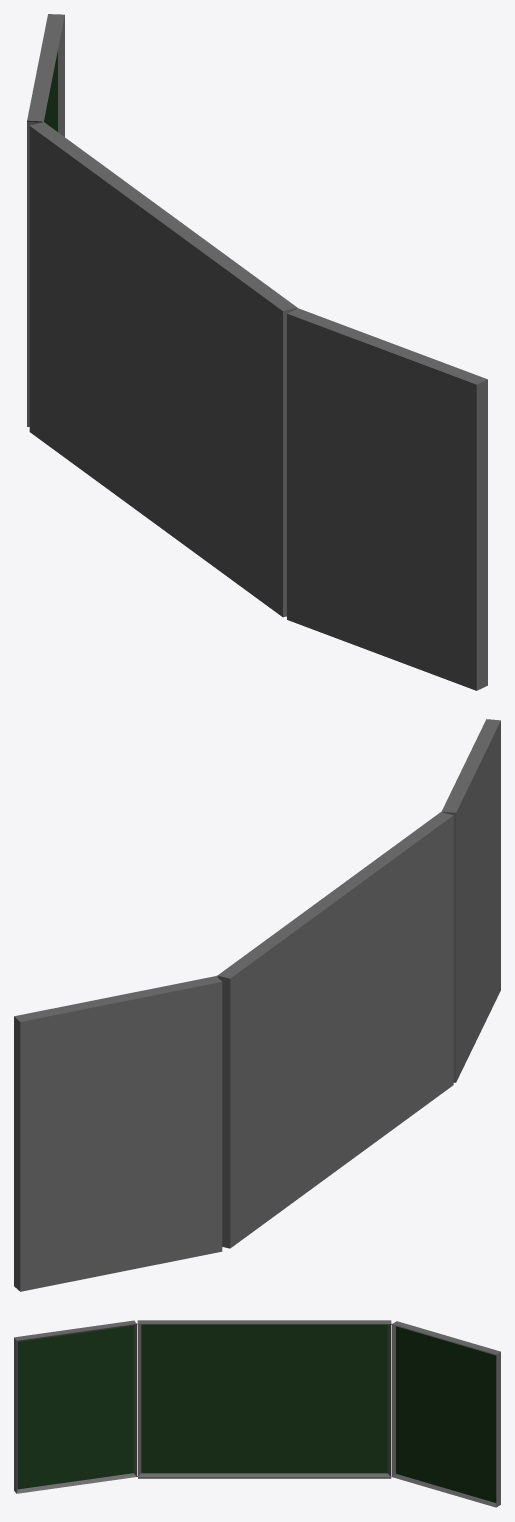
File: boardT.fbx
3 renders of one model, top to bottom at view 1: azimuth 30°, elevation 25°; view 2: azimuth 150°, elevation 25°; view 3: azimuth 270°, elevation 25°, orthographic. The views are drawn at different scales.
Visible parts, largest first — view 1: board; view 2: board; view 3: board.
Part boxes in pixels (left/top/right/bottom): board: left=27, top=14, right=487, bottom=690; board: left=14, top=719, right=500, bottom=1291; board: left=14, top=1320, right=500, bottom=1507.
Bounding box in the file's own units: 95.93 × 200 × 577.
